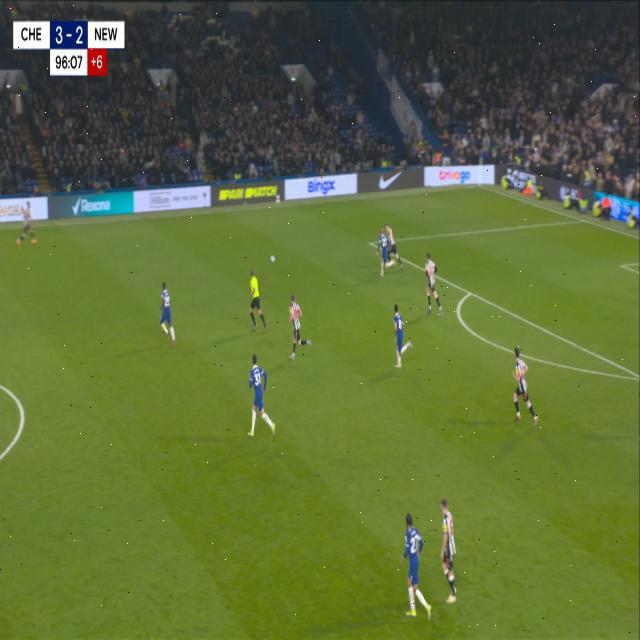Ball: (269, 252, 276, 264)
Chelsea: (398, 510, 434, 624), (244, 348, 278, 442), (390, 302, 414, 369), (157, 276, 177, 350), (377, 228, 388, 278)
Newcastle: (438, 493, 461, 608), (509, 344, 539, 429), (287, 290, 313, 364), (420, 248, 442, 321), (17, 198, 38, 248), (388, 218, 402, 268)
Refree: (245, 264, 269, 336)
